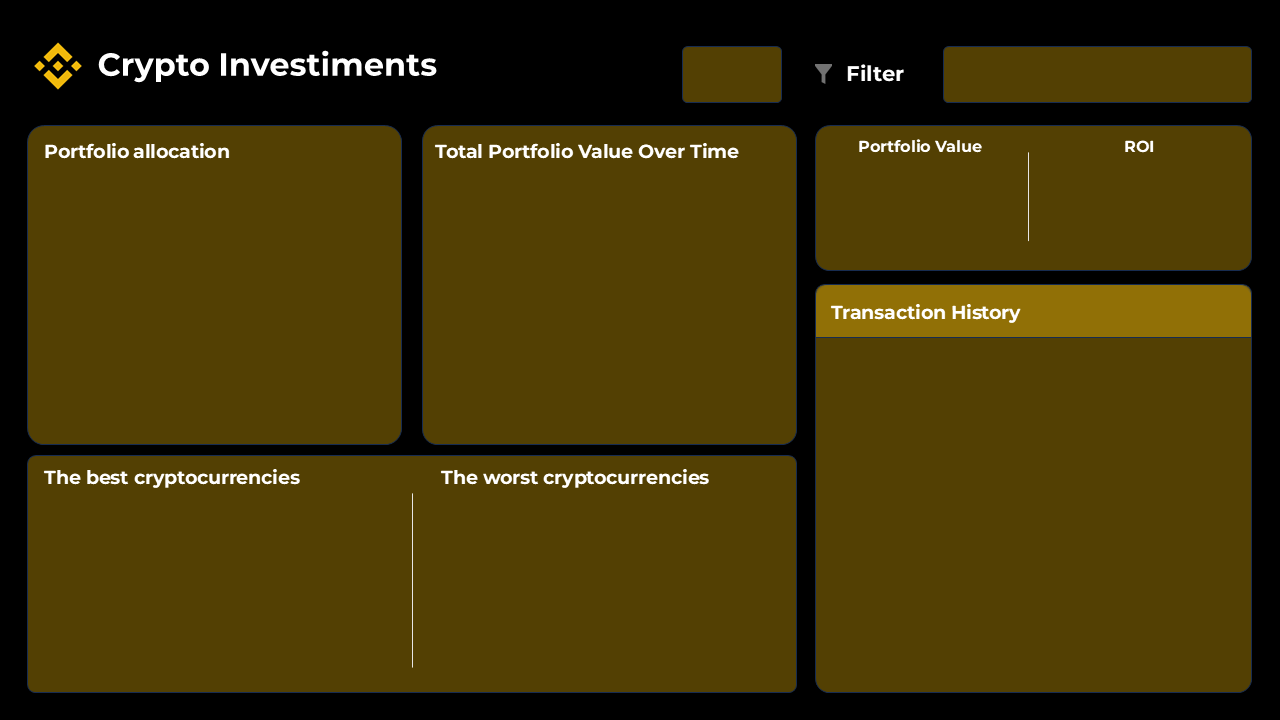

What the dashboard file says about the page in this screenshot:
{"tool":"powerbi","page":{"name":"Página 1","canvas":[1280,720],"ordinal":0},"visuals":[{"type":"card","fields":{"Values":["Sum(balances.current_value_usdt)"]},"box":[801.2,160,231.2,67.5],"z":0},{"type":"card","fields":{"Values":["balances.ROI"]},"box":[1021.2,160,231.2,67.5],"z":1000},{"type":"barChart","fields":{"Category":["balances.asset"],"Y":["Divide(Sum(balances.current_value_usdt), ScopedEval(Sum(balances.current_value_usdt), []))"]},"box":[23.3,168.9,367.8,261.1],"z":2000},{"type":"barChart","fields":{"Category":["balances.asset"],"Y":["Sum(balances.profit_loss_usdt)"]},"box":[26.7,493.3,381.1,185.6],"z":3000},{"type":"barChart","fields":{"Category":["balances.asset"],"Y":["Sum(balances.profit_loss_usdt)"]},"box":[413.3,493.3,381.1,185.6],"z":4000},{"type":"slicer","fields":{"Values":["balances.asset"]},"box":[947.5,47.5,300,51.2],"z":5000},{"type":"card","fields":{"Values":["Sum(balances.total_cost_usdt)"]},"box":[801.7,191.7,231.2,67.5],"z":6000},{"type":"tableEx","fields":{"Values":["transactions.asset","transactions.price","transactions.quoteQty","transactions.isBuyer","transactions.timestamp_human"]},"box":[810,328.8,455,365],"z":7000},{"type":"lineChart","fields":{"Y":["Sum(portfolio_history.total_portfolio_value_usdt)"],"Category":["portfolio_history.datetime.Variation.Hierarquia de datas.Ano","portfolio_history.datetime.Variation.Hierarquia de datas.Mês","portfolio_history.datetime.Variation.Hierarquia de datas.Dia"]},"box":[425,183.8,368.8,246.2],"z":7001}]}

Visuals, with their boxes in screenshot pixels (x1, y1, x2, y2), scaled from the page's 1280x720 canvas onto the 1280x720 screenshot:
card - Sum(balances.current_value_usdt): [x1=801, y1=160, x2=1032, y2=228]
card - balances.ROI: [x1=1021, y1=160, x2=1252, y2=228]
barChart - balances.asset x Divide(Sum(balances.current_value_usdt), ScopedEval(Sum(balances.current_value_usdt), [])): [x1=23, y1=169, x2=391, y2=430]
barChart - balances.asset x Sum(balances.profit_loss_usdt): [x1=27, y1=493, x2=408, y2=679]
barChart - balances.asset x Sum(balances.profit_loss_usdt): [x1=413, y1=493, x2=794, y2=679]
slicer - balances.asset: [x1=948, y1=48, x2=1248, y2=99]
card - Sum(balances.total_cost_usdt): [x1=802, y1=192, x2=1033, y2=259]
tableEx - transactions.asset x transactions.price: [x1=810, y1=329, x2=1265, y2=694]
lineChart - Sum(portfolio_history.total_portfolio_value_usdt) x portfolio_history.datetime.Variation.Hierarquia de datas.Ano: [x1=425, y1=184, x2=794, y2=430]
